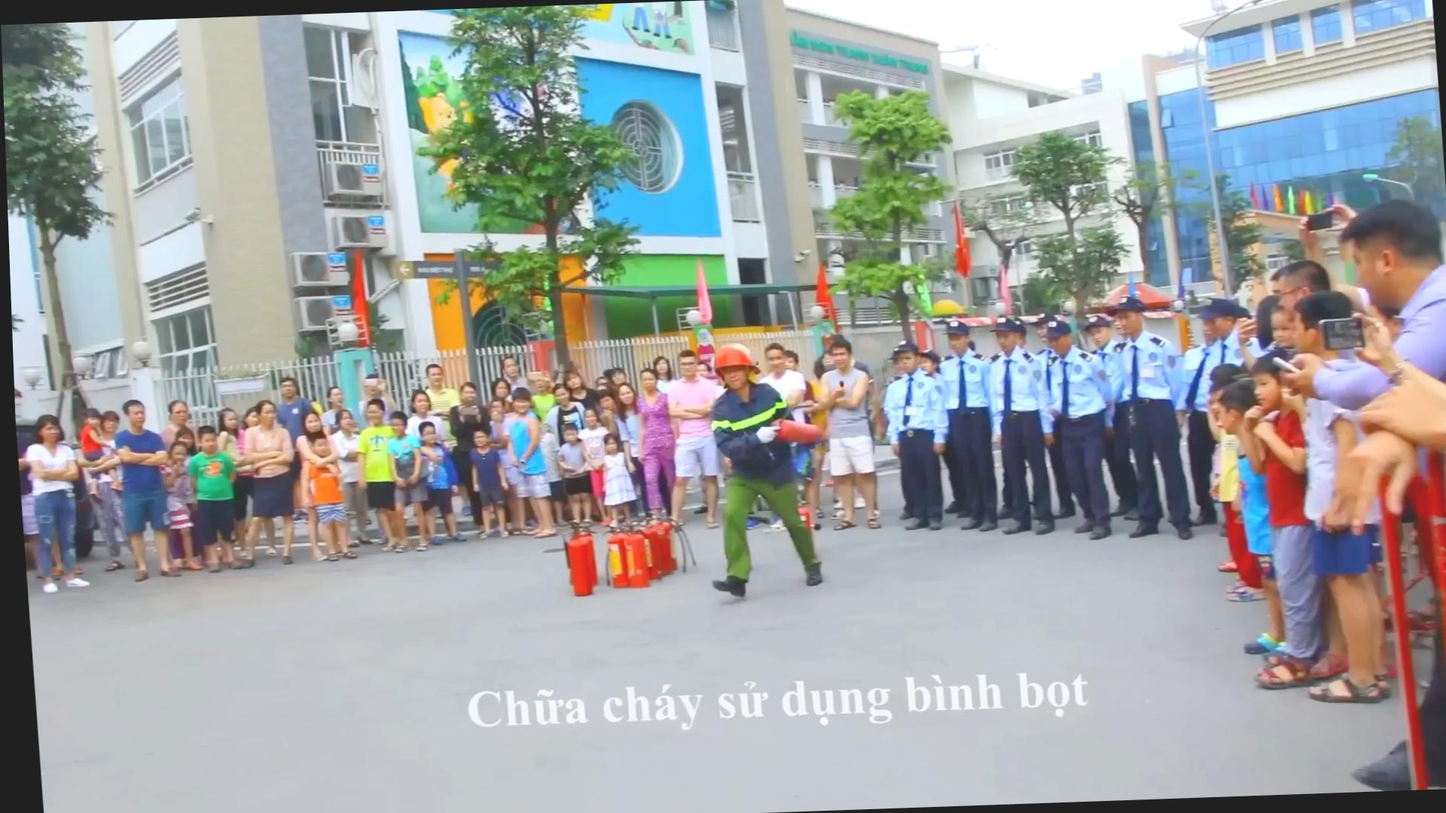FireExtinguisher: (634, 502, 694, 585), (598, 521, 650, 597), (554, 517, 600, 598), (762, 411, 828, 450)
